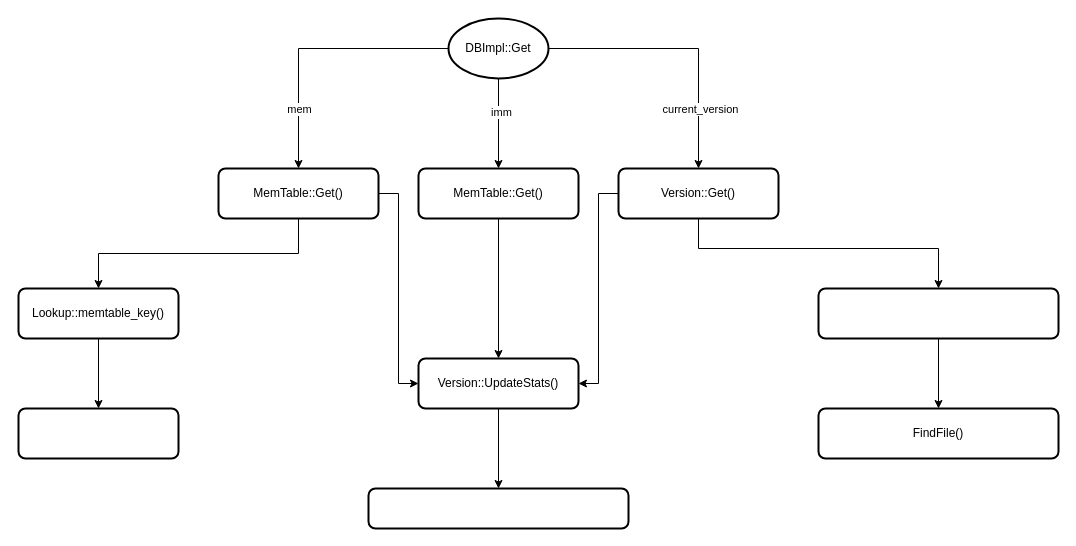
Some shapes in this 1076 by 546 pixel diagram are drawn without their labels. The centre of each missing label's shape, as x and y in pixels:
"DBImpl::MaybeScheduleCompaction" belongs at pixel 498 508.
"Table::Iterator::Seek()" belongs at pixel 98 433.
"Version::ForEachOverlapping()" belongs at pixel 938 313.
